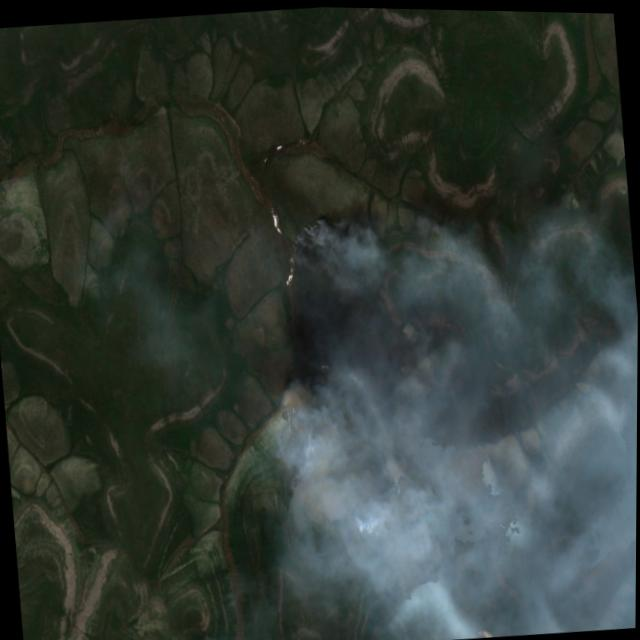fire: (258, 195, 427, 512)
